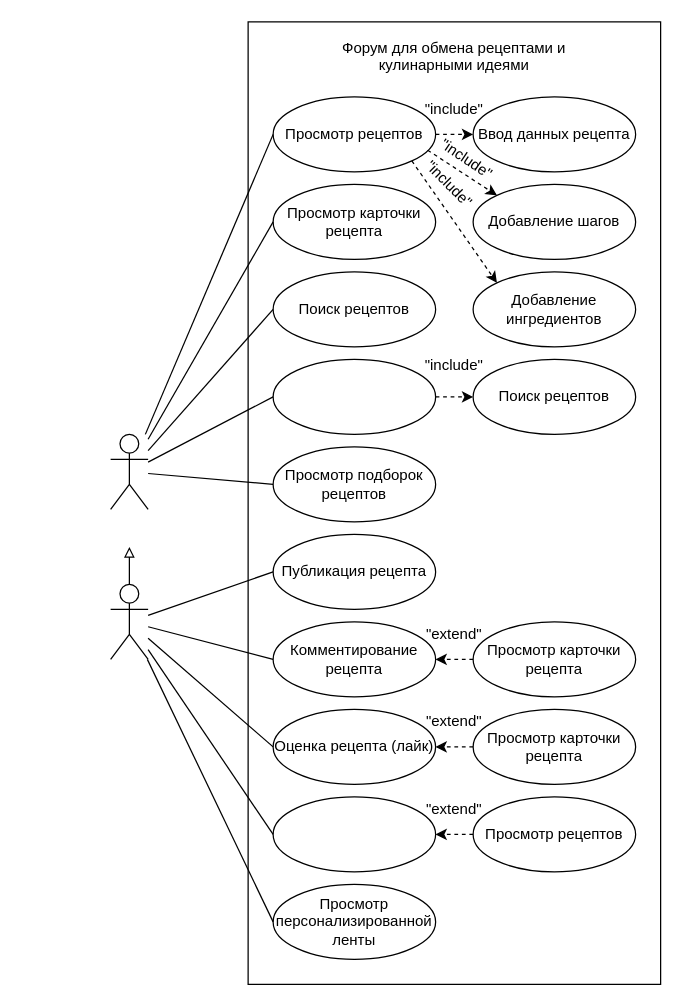
This 683x1006 diagram has some shape labels left out. Here are the shapes that lost their labels. From the top down, the box of each, then its label:
(272, 358, 436, 434): Фильтрация рецептов
(109, 433, 148, 509): Гость
(109, 583, 148, 659): Авторизованный пользователь
(272, 796, 436, 872): Создание подборки рецептов
